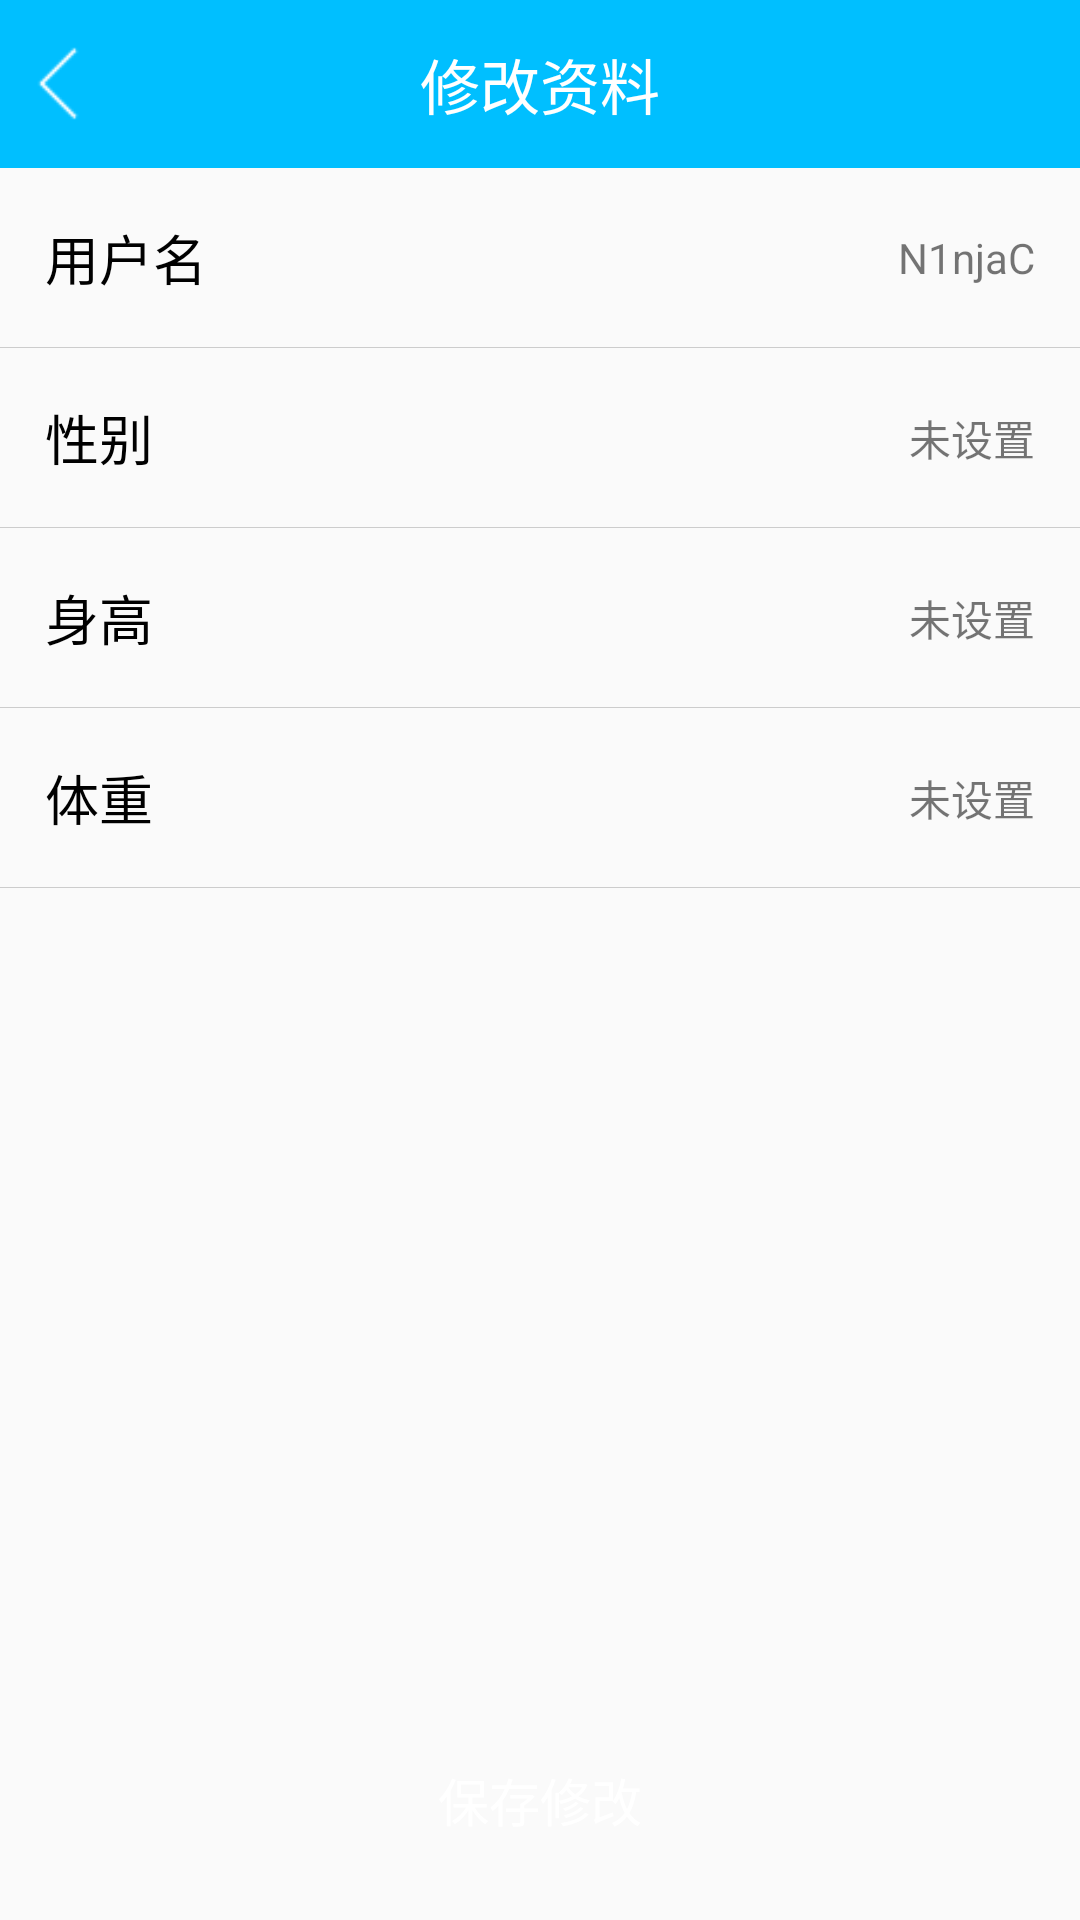

Screen size 1080px x 1920px. Icon name, then its center in pixels as point (x, y):
return: point (58, 83)
